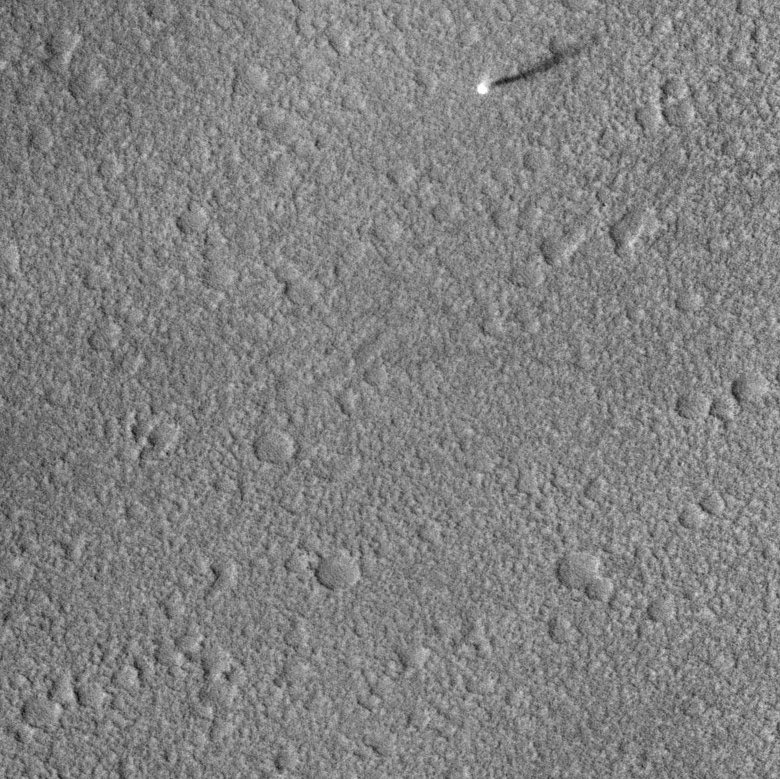dust_devil: (475, 44, 583, 96)
